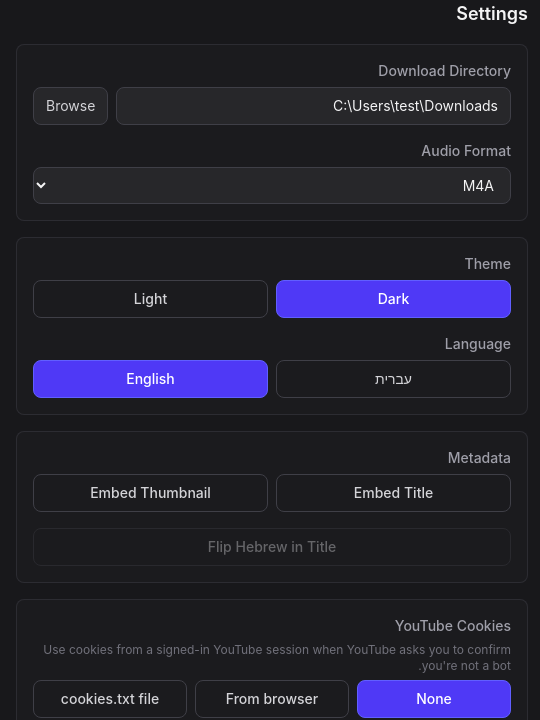
Settings › YouTube cookies › warns about account access once cookies are enabled
Click the button "From browser". click: (272,699)
box: [195,680,349,718]
(page scrolled)
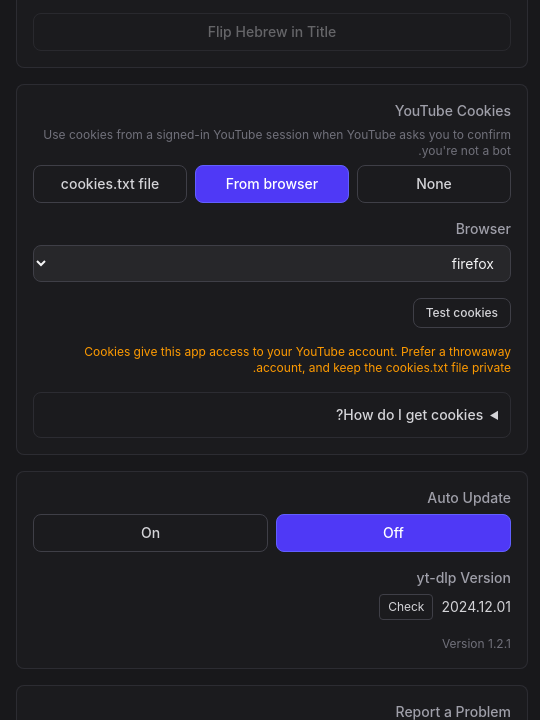
Check: the text "Cookies give this app access to your YouTube account. Prefer a throwaway account, and keep the cookies.txt file private." is shown, box [84,344,511,375]
